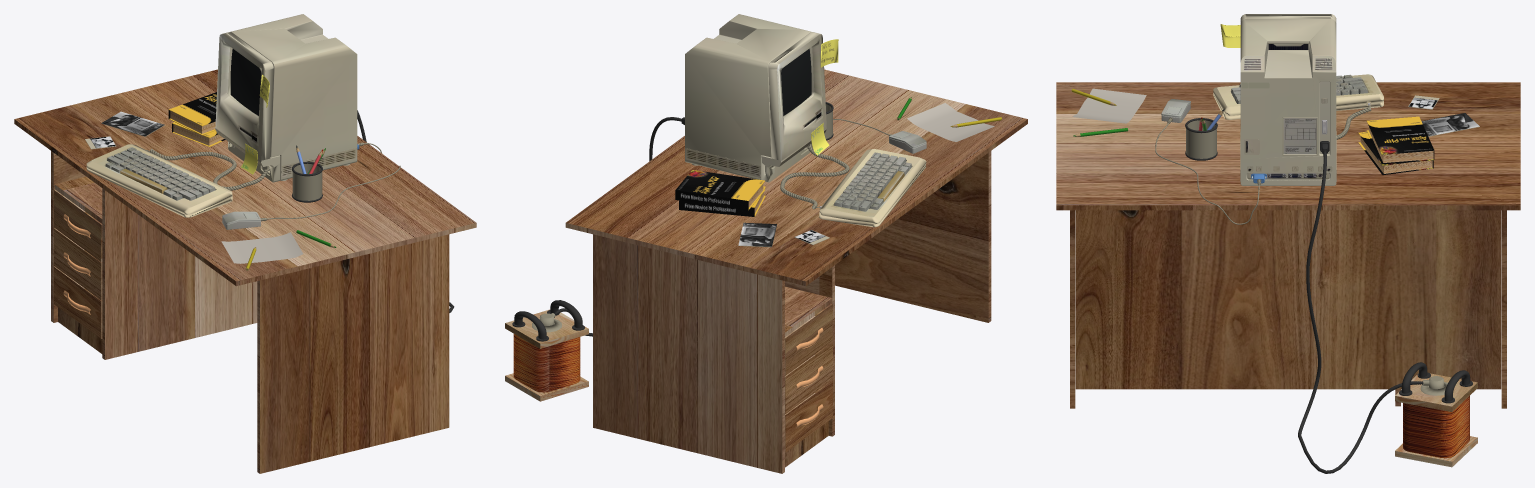
The model's file is computer.glb.
3 views of the same model, side by side, from view 1: azimuth 30°, elevation 25°; view 2: azimuth 150°, elevation 25°; view 3: azimuth 270°, elevation 25° (orthographic). The views are drawn at different scales.
Visible parts, largest first — view 1: Plane.020_mahagon_3_0, Cube.000_hello_4_0, Circle.001_grey_0, Cube.010_klava_2_1_0, knopki.001_klava_2_0, Cube.004_oblogka_0, Plane.022_stiv_3_0, Cube.016_stranica_0, Cube.006_Macintosh_2_0, Cube.001_Apple-0_0; view 2: Plane.020_mahagon_3_0, Cube.000_hello_4_0, Circle.001_grey_0, Cube.004_oblogka_0, Cube_katushka_0, knopki.001_klava_2_0, Cube.010_klava_2_1_0, Cube.015_wood_0, Cube.006_Macintosh_2_0, Plane.022_stiv_3_0, Cube.001_Apple-0_0; view 3: Plane.020_mahagon_3_0, Cube.000_hello_4_0, Circle.001_grey_0, Cube.008_Macintosh-128K-retro_0, Cube_katushka_0, Cube.004_oblogka_0, BezierCurve.001_grey_0, Cube.015_wood_0, Cube.010_klava_2_1_0, Cube.016_stranica_0, Plane.022_stiv_3_0, knopki.001_klava_2_0 (+1 smaller).
Part boxes in pixels (x1,y1,x2,y2): Plane.020_mahagon_3_0: (14, 69, 476, 473); Cube.000_hello_4_0: (215, 14, 357, 182); Circle.001_grey_0: (63, 49, 364, 314); Cube.010_klava_2_1_0: (86, 144, 232, 217); knopki.001_klava_2_0: (105, 147, 215, 200); Cube.004_oblogka_0: (168, 92, 225, 146); Plane.022_stiv_3_0: (101, 111, 164, 136); Cube.016_stranica_0: (170, 111, 224, 145); Cube.006_Macintosh_2_0: (281, 148, 356, 177); Cube.001_Apple-0_0: (222, 211, 260, 229); Plane.020_mahagon_3_0: (565, 69, 1027, 473); Cube.000_hello_4_0: (685, 14, 826, 182); Circle.001_grey_0: (512, 48, 1001, 428); Cube.004_oblogka_0: (675, 170, 765, 216); Cube_katushka_0: (513, 334, 580, 392); knopki.001_klava_2_0: (834, 152, 911, 211); Cube.010_klava_2_1_0: (819, 149, 926, 227); Cube.015_wood_0: (505, 309, 588, 401); Cube.006_Macintosh_2_0: (685, 148, 760, 177); Plane.022_stiv_3_0: (738, 222, 776, 246); Cube.001_Apple-0_0: (889, 131, 926, 153); Plane.020_mahagon_3_0: (1056, 82, 1520, 408); Cube.000_hello_4_0: (1240, 14, 1336, 185); Circle.001_grey_0: (1071, 75, 1479, 403); Cube.008_Macintosh-128K-retro_0: (1241, 44, 1335, 179); Cube_katushka_0: (1403, 396, 1469, 458); Cube.004_oblogka_0: (1358, 116, 1434, 174); BezierCurve.001_grey_0: (1155, 122, 1416, 473); Cube.015_wood_0: (1395, 373, 1477, 467); Cube.010_klava_2_1_0: (1213, 74, 1383, 119); Cube.016_stranica_0: (1360, 127, 1433, 173); Plane.022_stiv_3_0: (1421, 113, 1479, 136); knopki.001_klava_2_0: (1231, 74, 1367, 103).
Bounding box in the file's own units: 1.3 × 1.18 × 1.44.
Materials: 18 (18 with a texture image).
